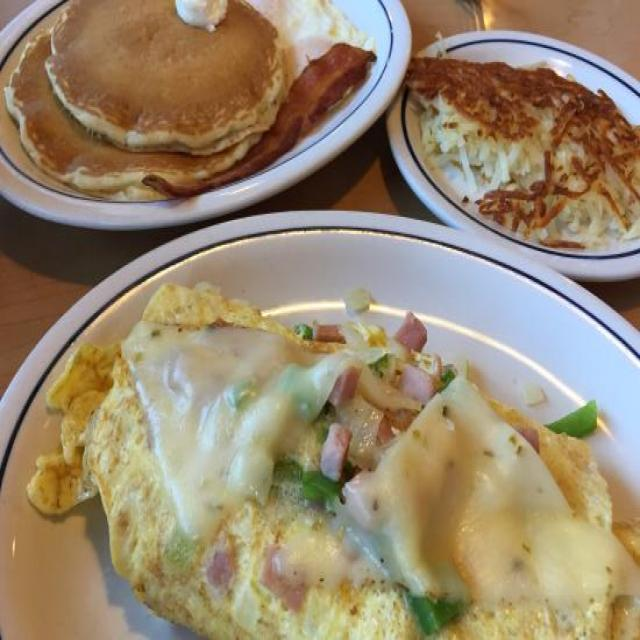Omelette: (21, 277, 639, 638)
Pancakes: (4, 0, 272, 197)
